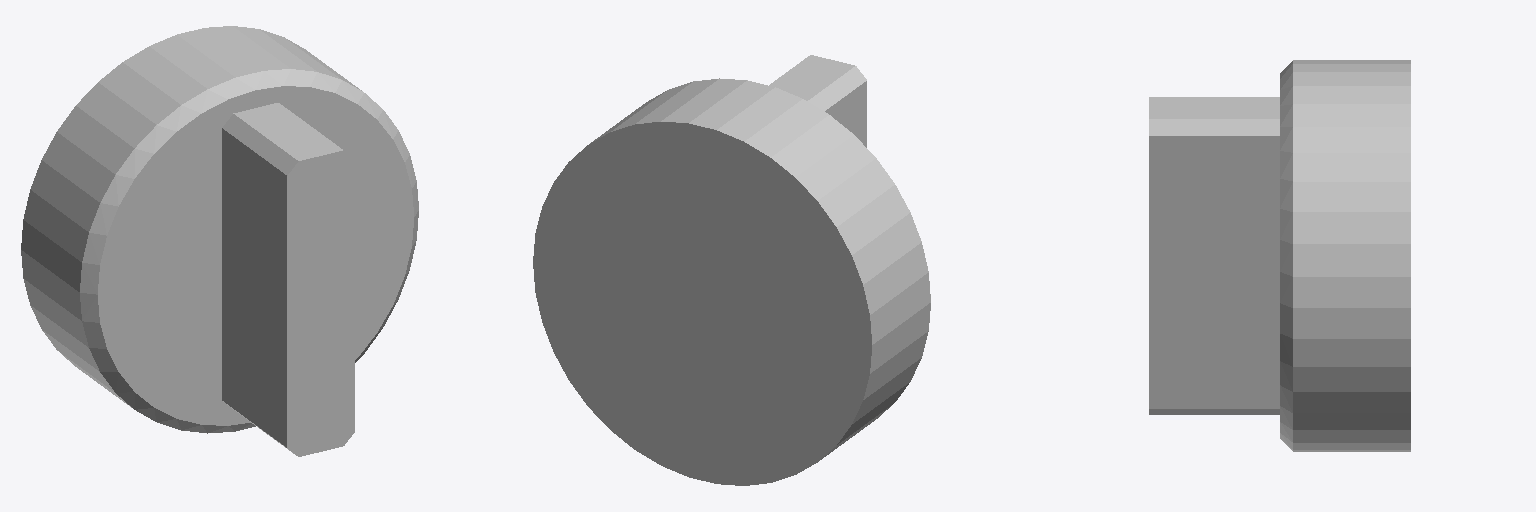
File: UREndEffector.obj
3 views of the same model, side by side, from view 1: azimuth 30°, elevation 25°; view 2: azimuth 150°, elevation 25°; view 3: azimuth 270°, elevation 25° (orthographic).
Parts seen in each view (by area): view 1: Grippers_Support; view 2: Grippers_Support; view 3: Grippers_Support.
Part boxes in pixels (x1,y1,x2,y2): Grippers_Support: (21, 26, 418, 456); Grippers_Support: (533, 55, 930, 485); Grippers_Support: (1149, 60, 1410, 451).
Size of the model in its own units: 60 by 59.8 by 40.